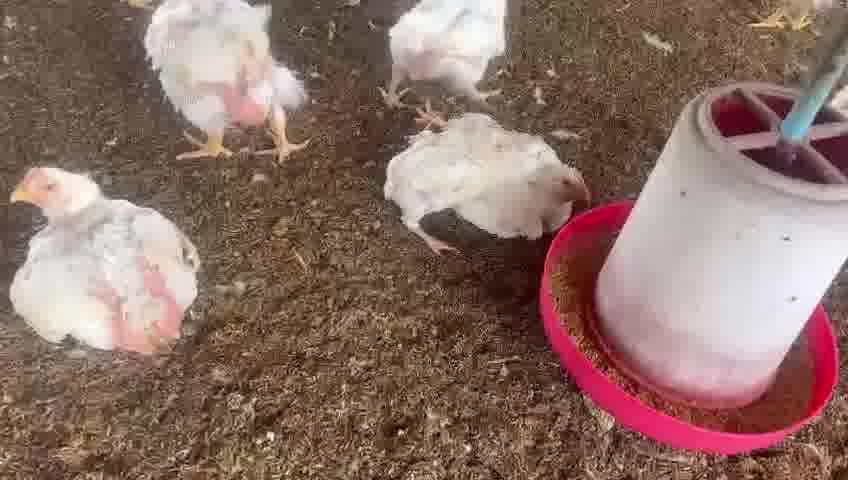AbNormal: (383, 103, 581, 246)
Normal: (1, 144, 199, 376), (131, 0, 311, 162), (385, 0, 525, 126)
